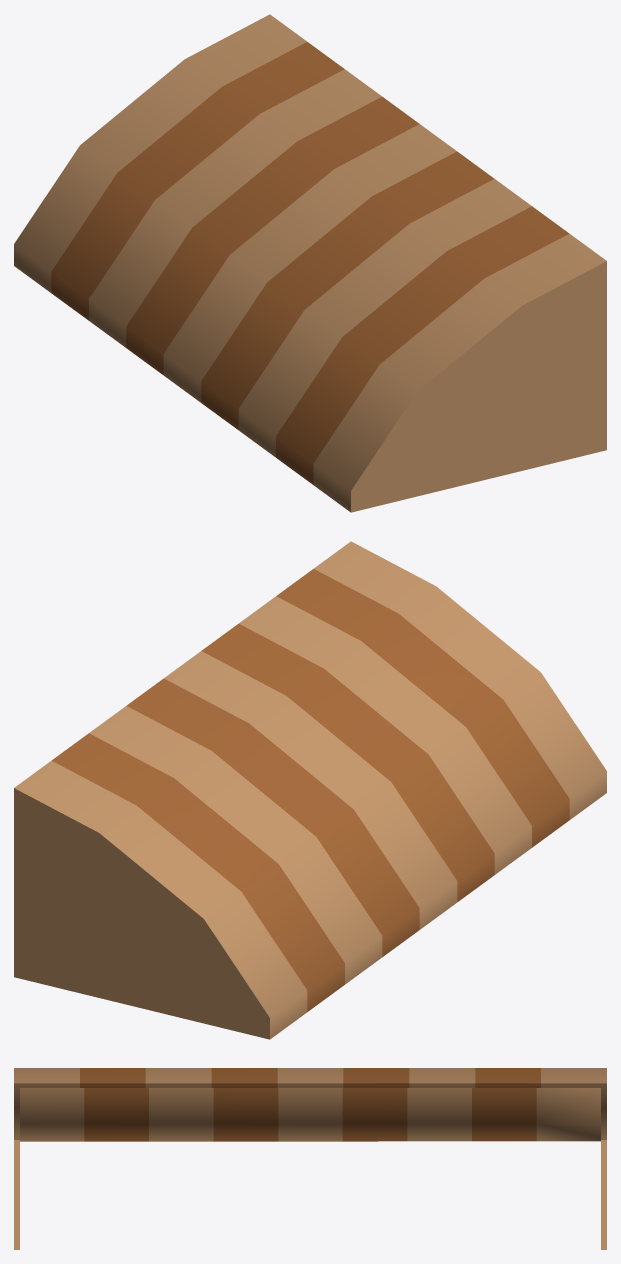
File: Awning_1_B.fbx
The picture shows the model from 3 angles, top to bottom: view 1: azimuth 30°, elevation 25°; view 2: azimuth 150°, elevation 25°; view 3: azimuth 270°, elevation 25°; orthographic projection. The views are drawn at different scales.
Parts seen in each view (by area): view 1: Awning_1_B; view 2: Awning_1_B; view 3: Awning_1_B.
Part boxes in pixels (x1=…): Awning_1_B: x1=14, y1=14, x2=606, y2=512; Awning_1_B: x1=14, y1=541, x2=606, y2=1039; Awning_1_B: x1=14, y1=1068, x2=606, y2=1249.
Size of the model in its own units: 123 by 86.57 by 280.
